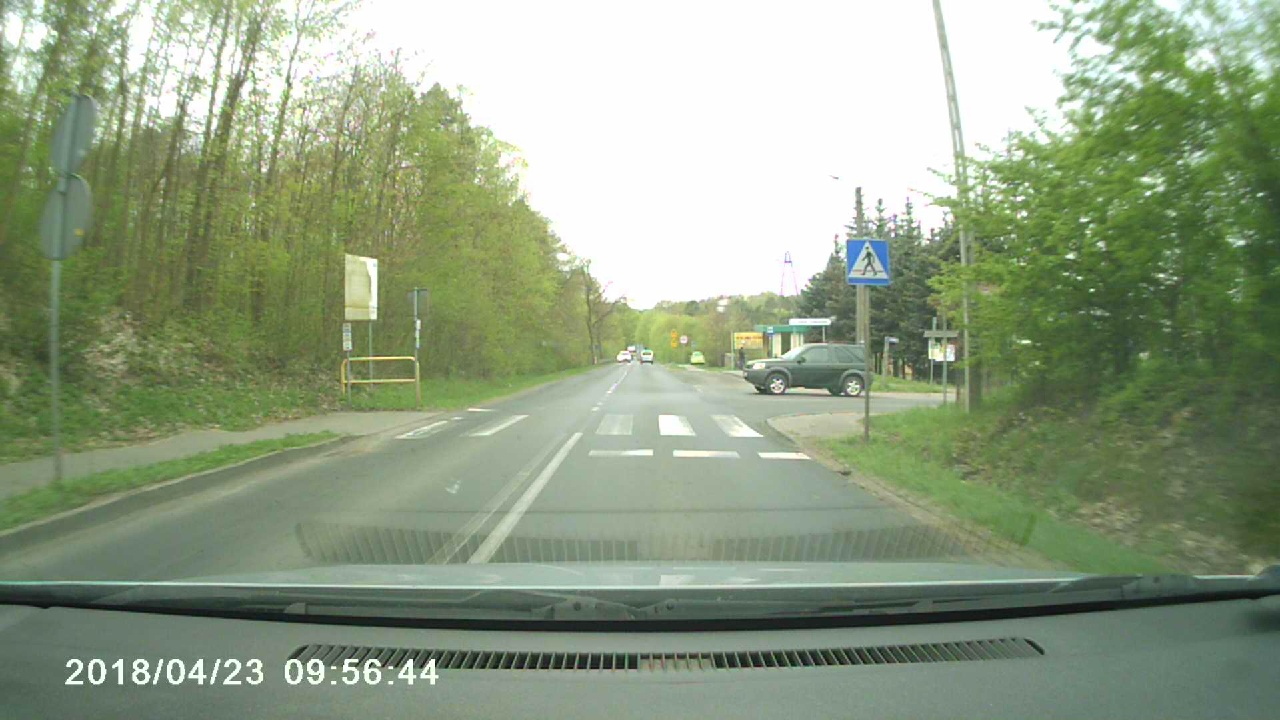D6: (848, 239, 888, 283)
